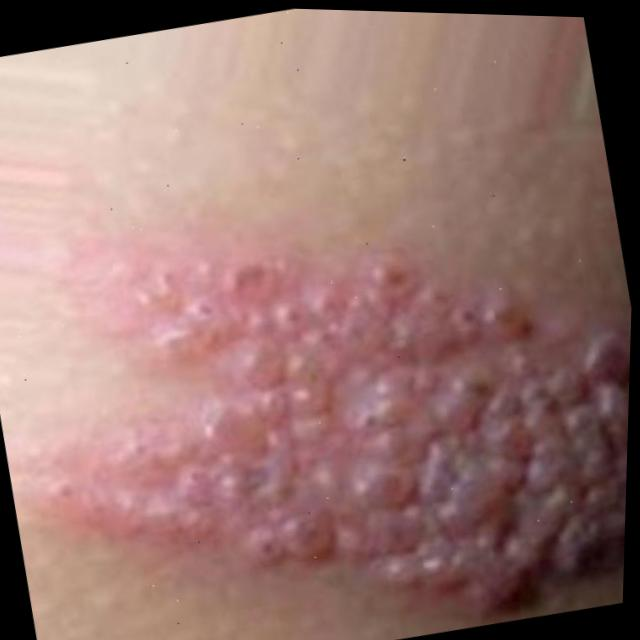Shingles: (3, 180, 635, 640)
